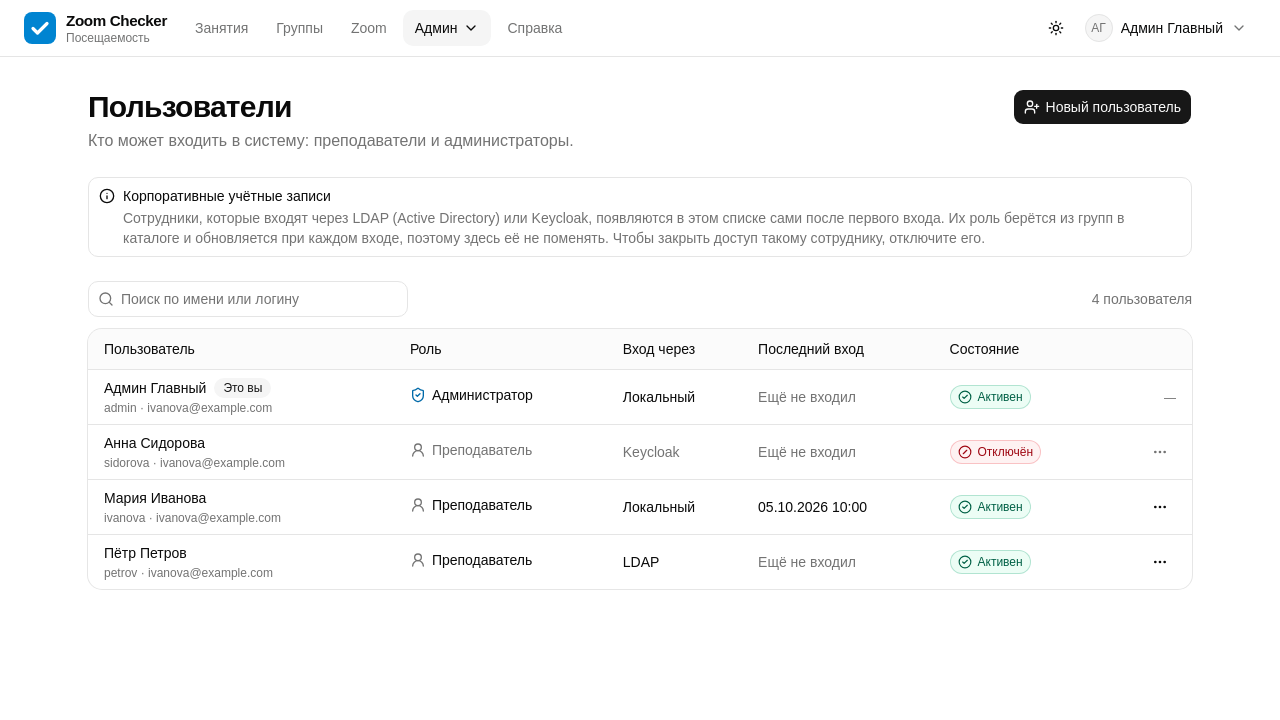
UsersPage › does not offer password reset or role change to LDAP users
expect the table is shown: met, box [88,329,1192,588]
Click the button named "Действия: Пётр Петров" at (1160, 562), box [1144,546,1176,578]
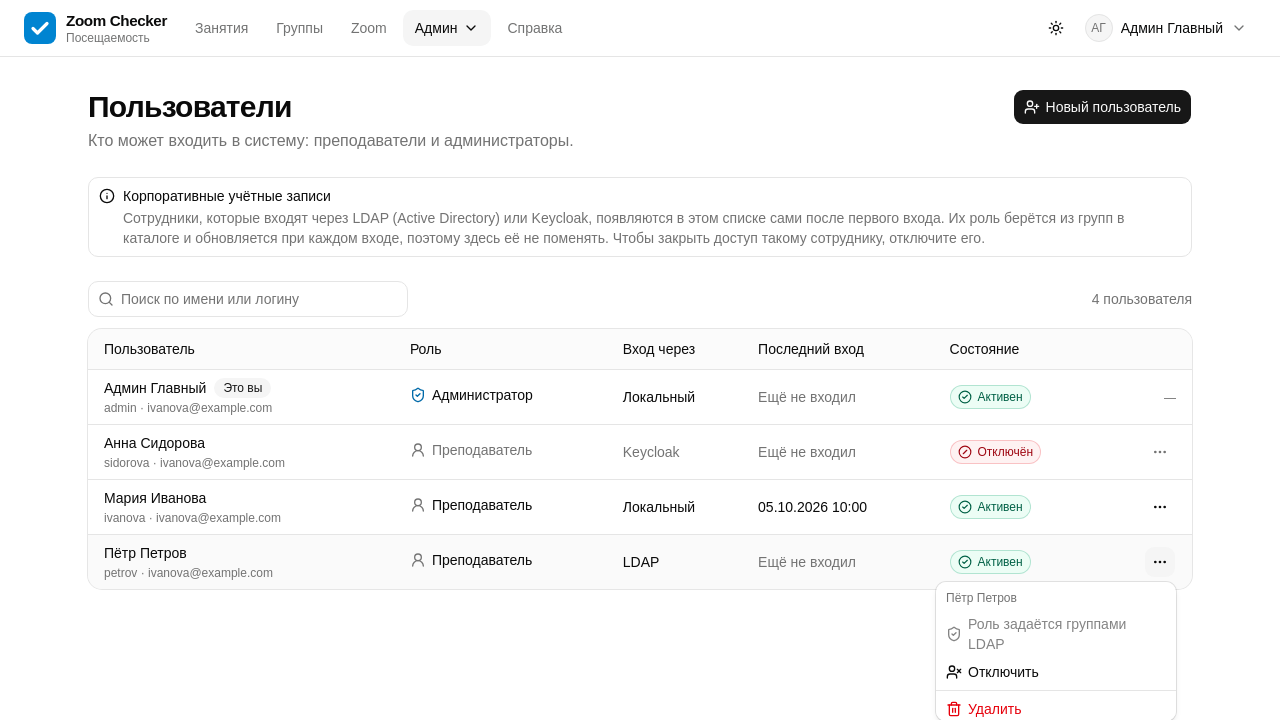
expect the menu item "Отключить" is shown: met, box [946,664,1039,680]
